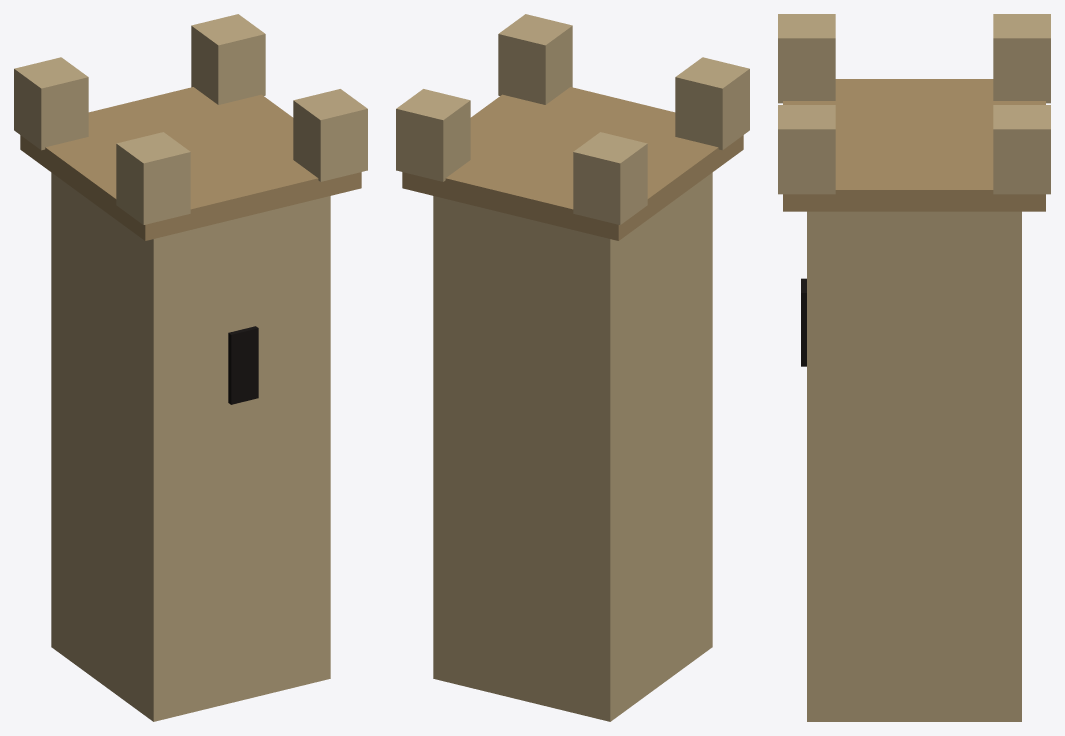
The model's file is fennec_tower.glb.
3 views of the same model, side by side, from view 1: azimuth 30°, elevation 25°; view 2: azimuth 150°, elevation 25°; view 3: azimuth 270°, elevation 25° (orthographic). The views are drawn at different scales.
Visible parts, largest first — view 1: fennec_tower; view 2: fennec_tower; view 3: fennec_tower.
Part boxes in pixels (left/top/right/bottom): fennec_tower: left=14, top=14, right=367, bottom=721; fennec_tower: left=396, top=14, right=749, bottom=721; fennec_tower: left=778, top=14, right=1050, bottom=721.
Bounding box in the file's own units: 1.14 × 2.79 × 1.14.
